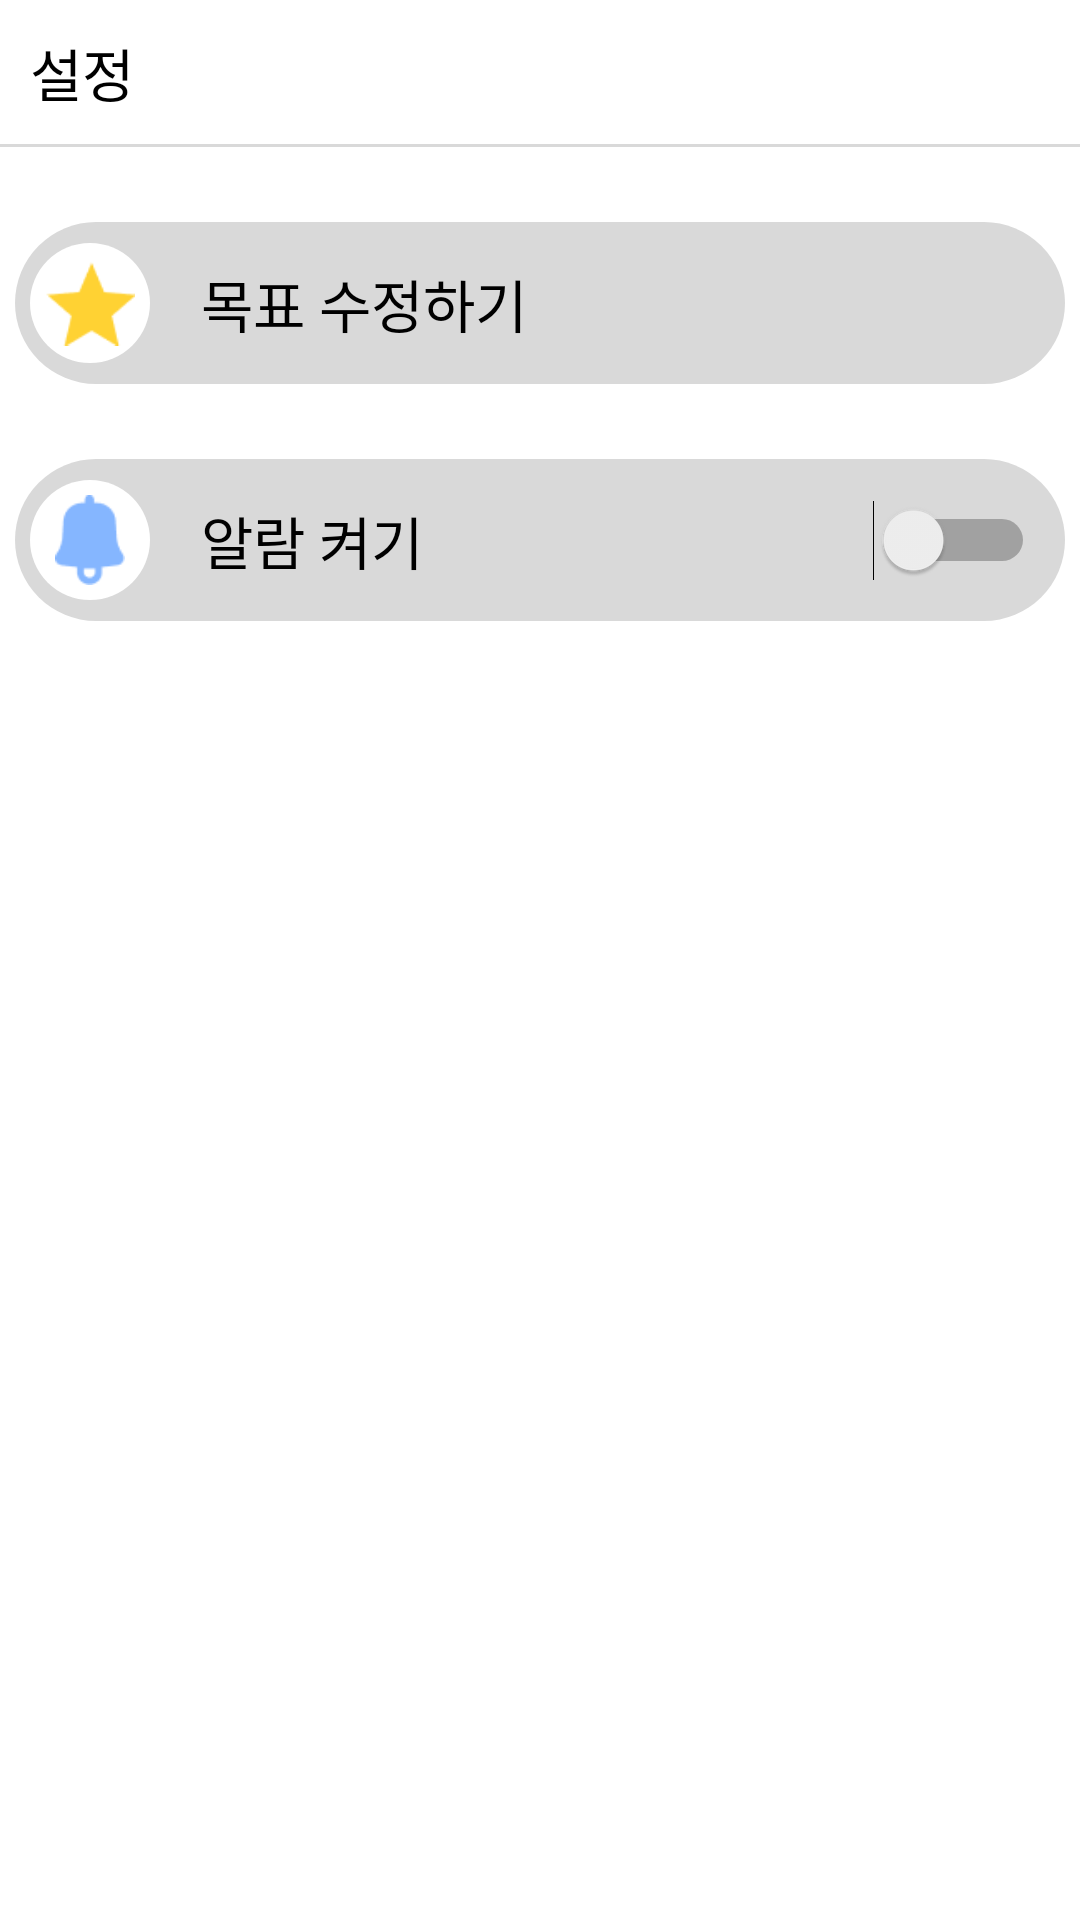

Named icons in this screenshot (1080x1920) and their centers, (x,y):
alarm: (90,540)
goal: (90,303)
